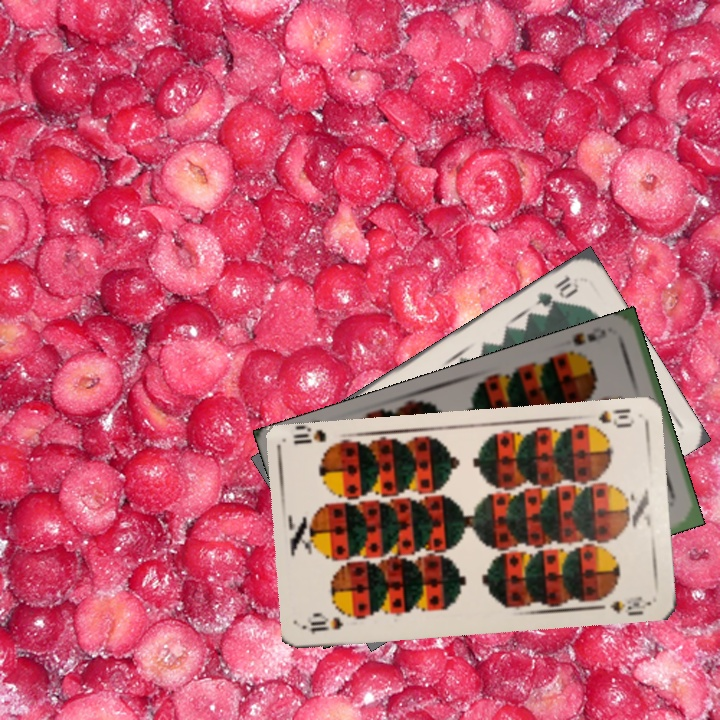G10: (530, 271, 582, 311)
S10: (579, 405, 637, 433), (303, 612, 346, 636)
S9: (559, 325, 609, 364)
